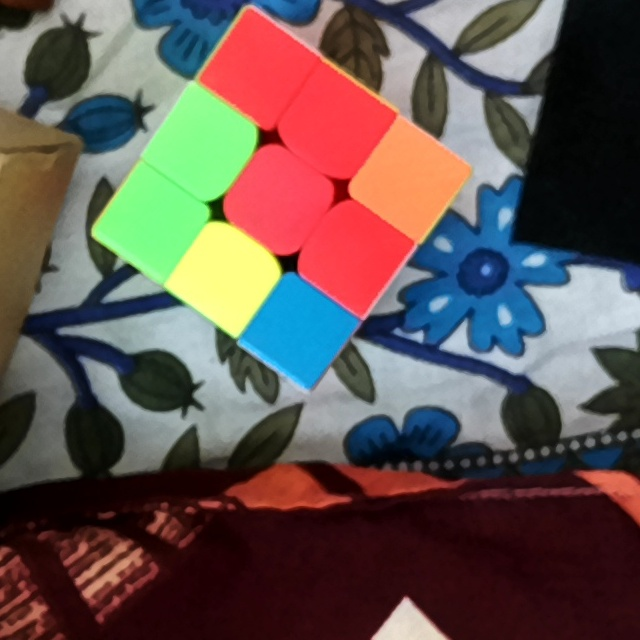tile: (300, 92, 366, 156), (171, 116, 235, 180), (321, 224, 386, 284), (377, 153, 442, 212), (119, 192, 181, 253), (227, 40, 291, 99), (246, 171, 307, 231), (194, 245, 253, 305), (269, 302, 327, 359)
